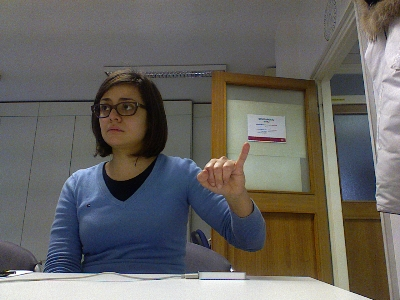小指: (194, 139, 251, 197)
